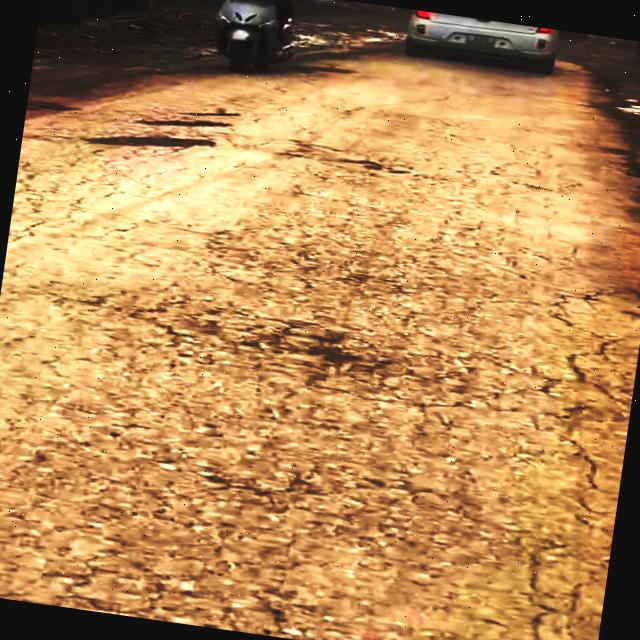pothole: (80, 119, 221, 168)
